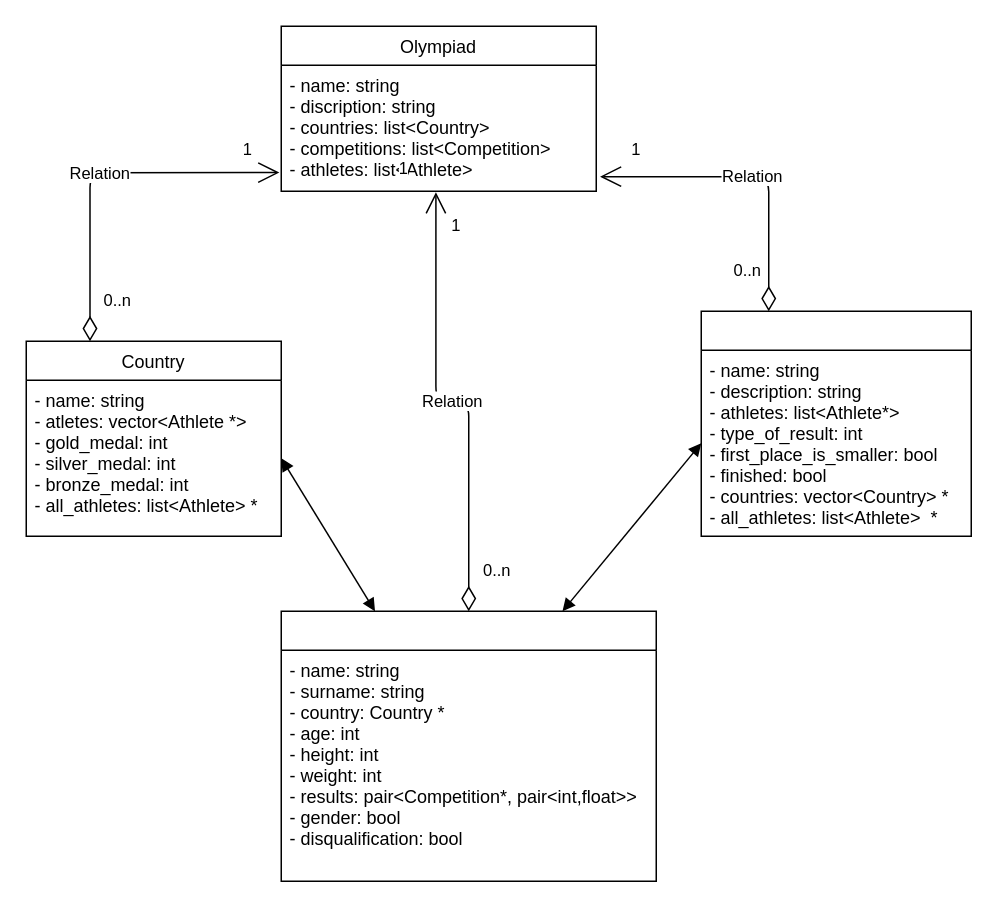
This 998x912 diagram has some shape labels left out. The shapes that lost their labels are listed below. From the top down, each one's box as (x1, y1, x2, y2) in pixels, then its label:
(700, 310, 971, 536): Competition
(280, 610, 656, 881): Athlete
